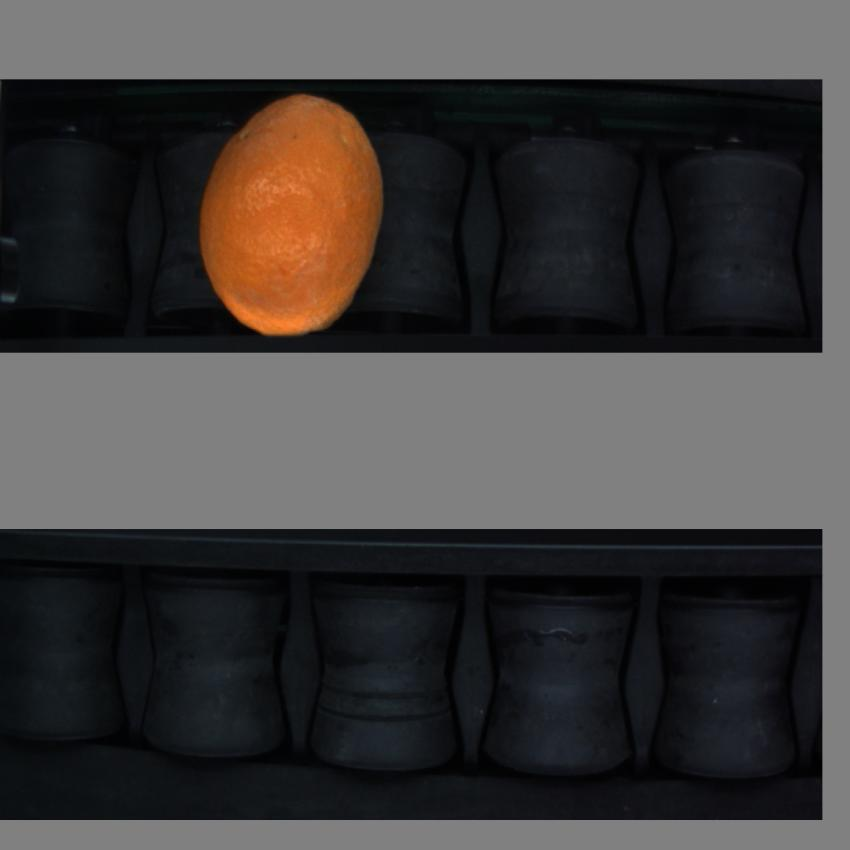Mal estado: (195, 96, 386, 339)
